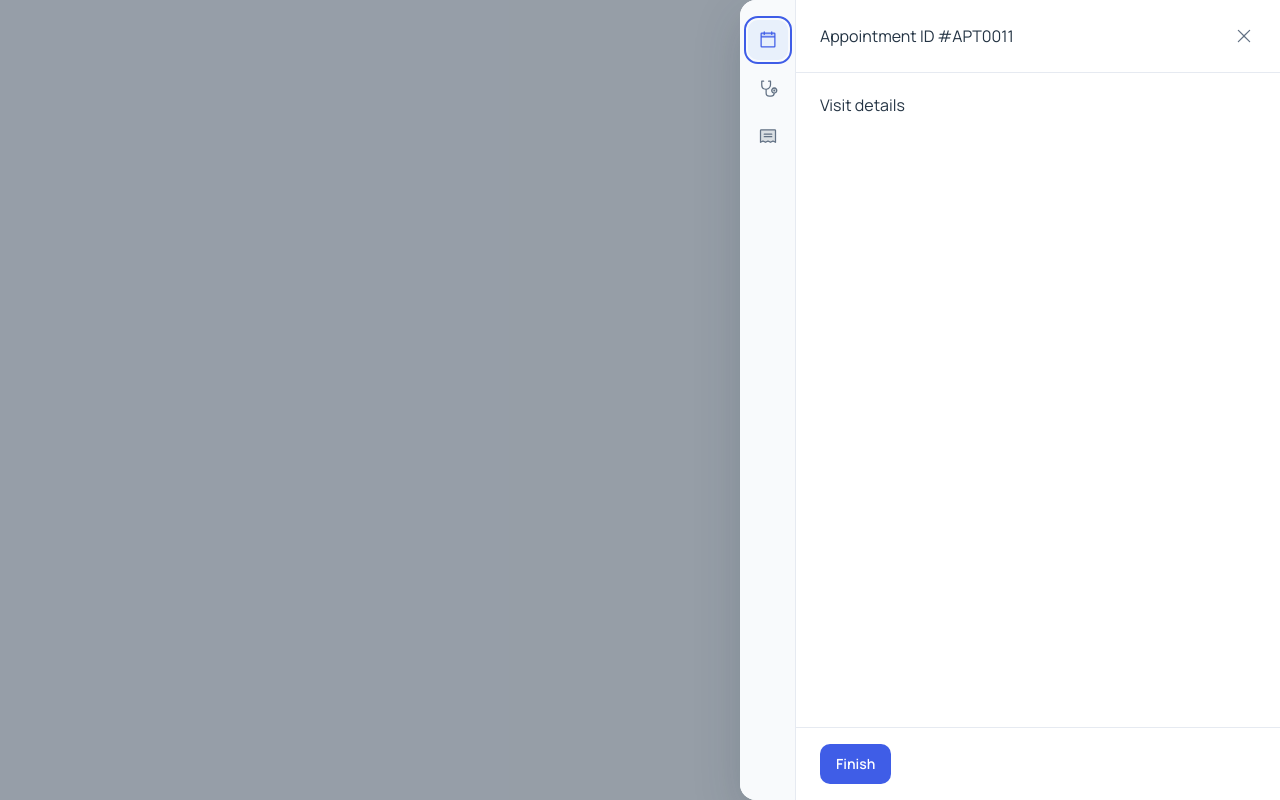
Test case: Drawer › is named by its title and switches sections from the icon rail
Expected: the text "Visit details" is shown, [820, 94, 905, 116]
Click the tab named "Billing" at (768, 136), box [748, 116, 788, 156]
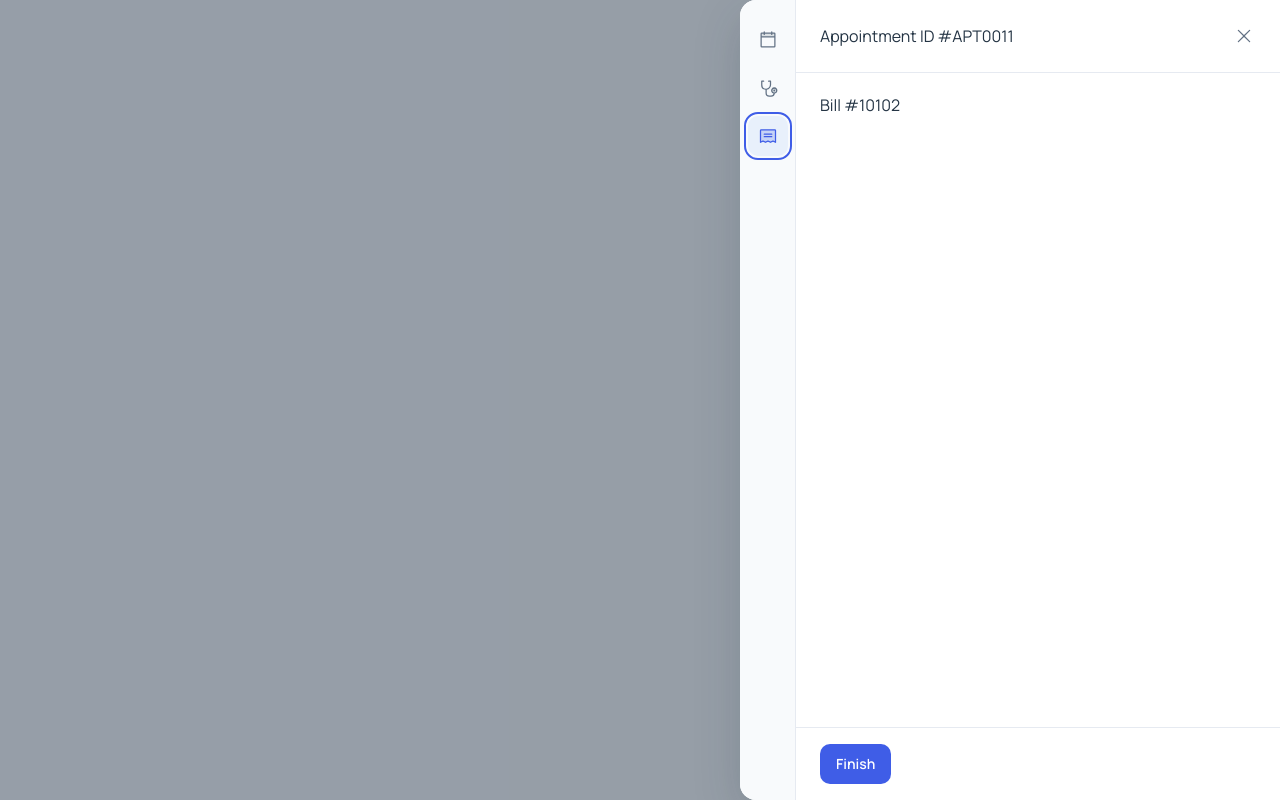
Expected: the button "Finish" is shown, [820, 744, 891, 784]
Now the text "Bill #10102" is shown, box [820, 94, 900, 116]
